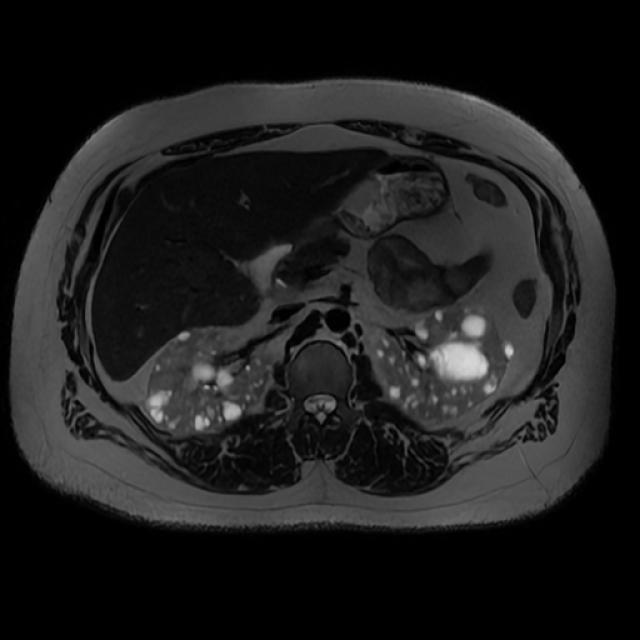sag: (147, 329, 269, 435)
sol: (378, 309, 517, 421)
